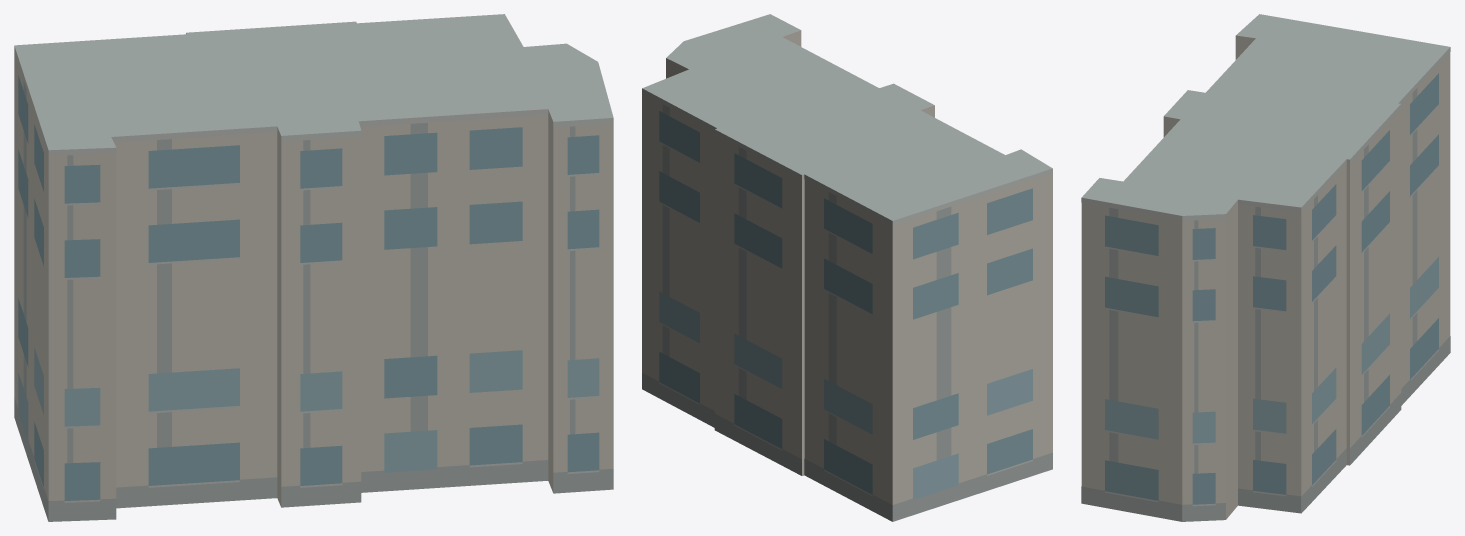
File: survey-upis-32520433.glb
3 renders of one model, left to right at view 1: azimuth 30°, elevation 25°; view 2: azimuth 150°, elevation 25°; view 3: azimuth 270°, elevation 25°, orthographic. The views are drawn at different scales.
Visible parts, largest first — view 1: survey-upis-32520433.tmp; view 2: survey-upis-32520433.tmp; view 3: survey-upis-32520433.tmp.
Part boxes in pixels (x1,y1,x2,y2): survey-upis-32520433.tmp: (14,14,613,521); survey-upis-32520433.tmp: (642,14,1052,521); survey-upis-32520433.tmp: (1081,14,1450,521).
Bounding box in the file's own units: 21.53 × 15.2 × 16.62.
